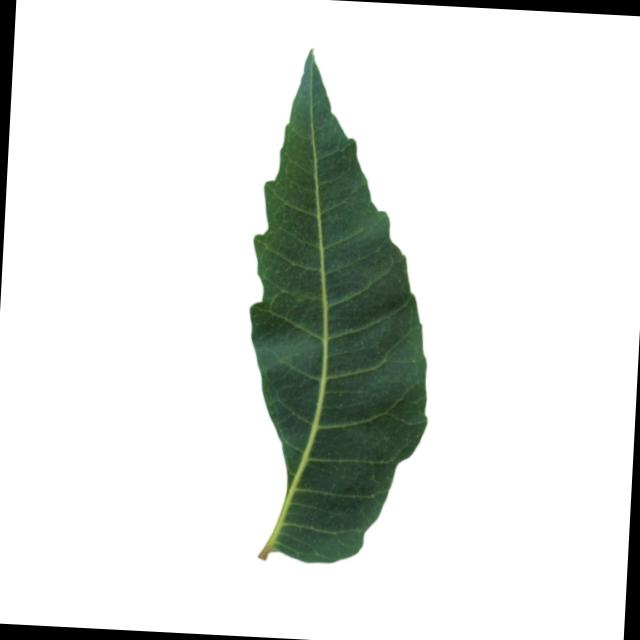Medicinal-Neem: (238, 38, 447, 564)
